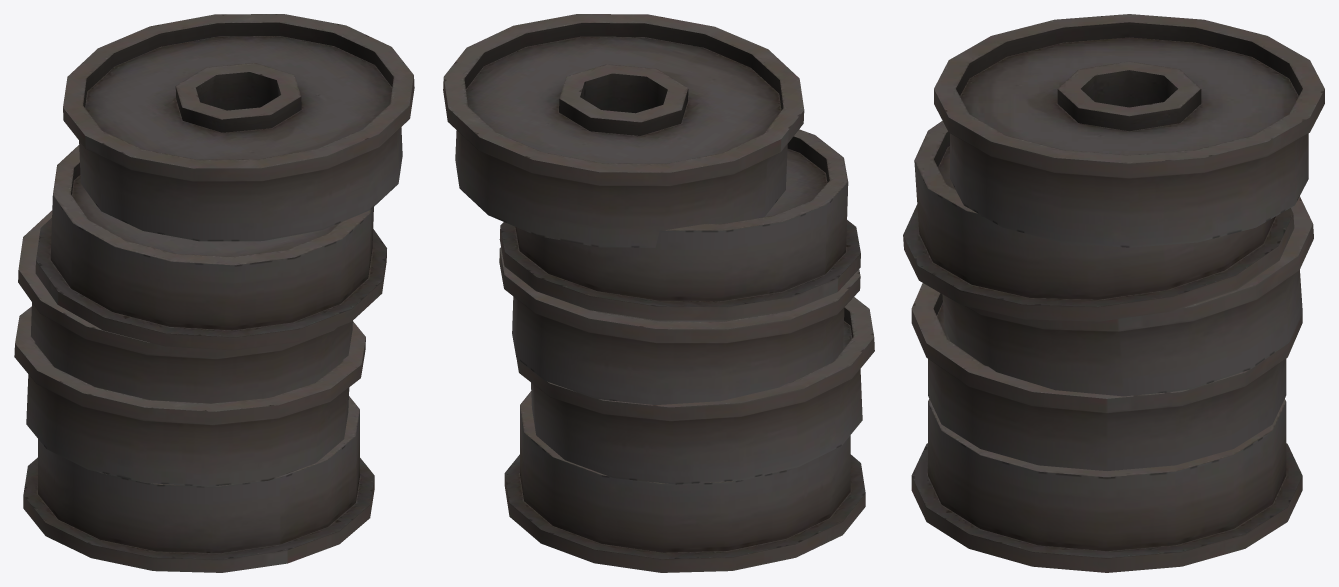
The picture shows the model from 3 angles, left to right: view 1: azimuth 30°, elevation 25°; view 2: azimuth 150°, elevation 25°; view 3: azimuth 270°, elevation 25°; orthographic projection. The views are drawn at different scales.
Visible parts, largest first — view 1: body0_model0_lod0_mesh0; view 2: body0_model0_lod0_mesh0; view 3: body0_model0_lod0_mesh0.
Boxes of the visible parts, x1,y1,x2,y2 form: body0_model0_lod0_mesh0: (14,14,414,572); body0_model0_lod0_mesh0: (443,14,874,572); body0_model0_lod0_mesh0: (903,14,1324,572).
Bounding box in the file's own units: 42.91 × 44.28 × 38.84.
1 material, 1 textured.
